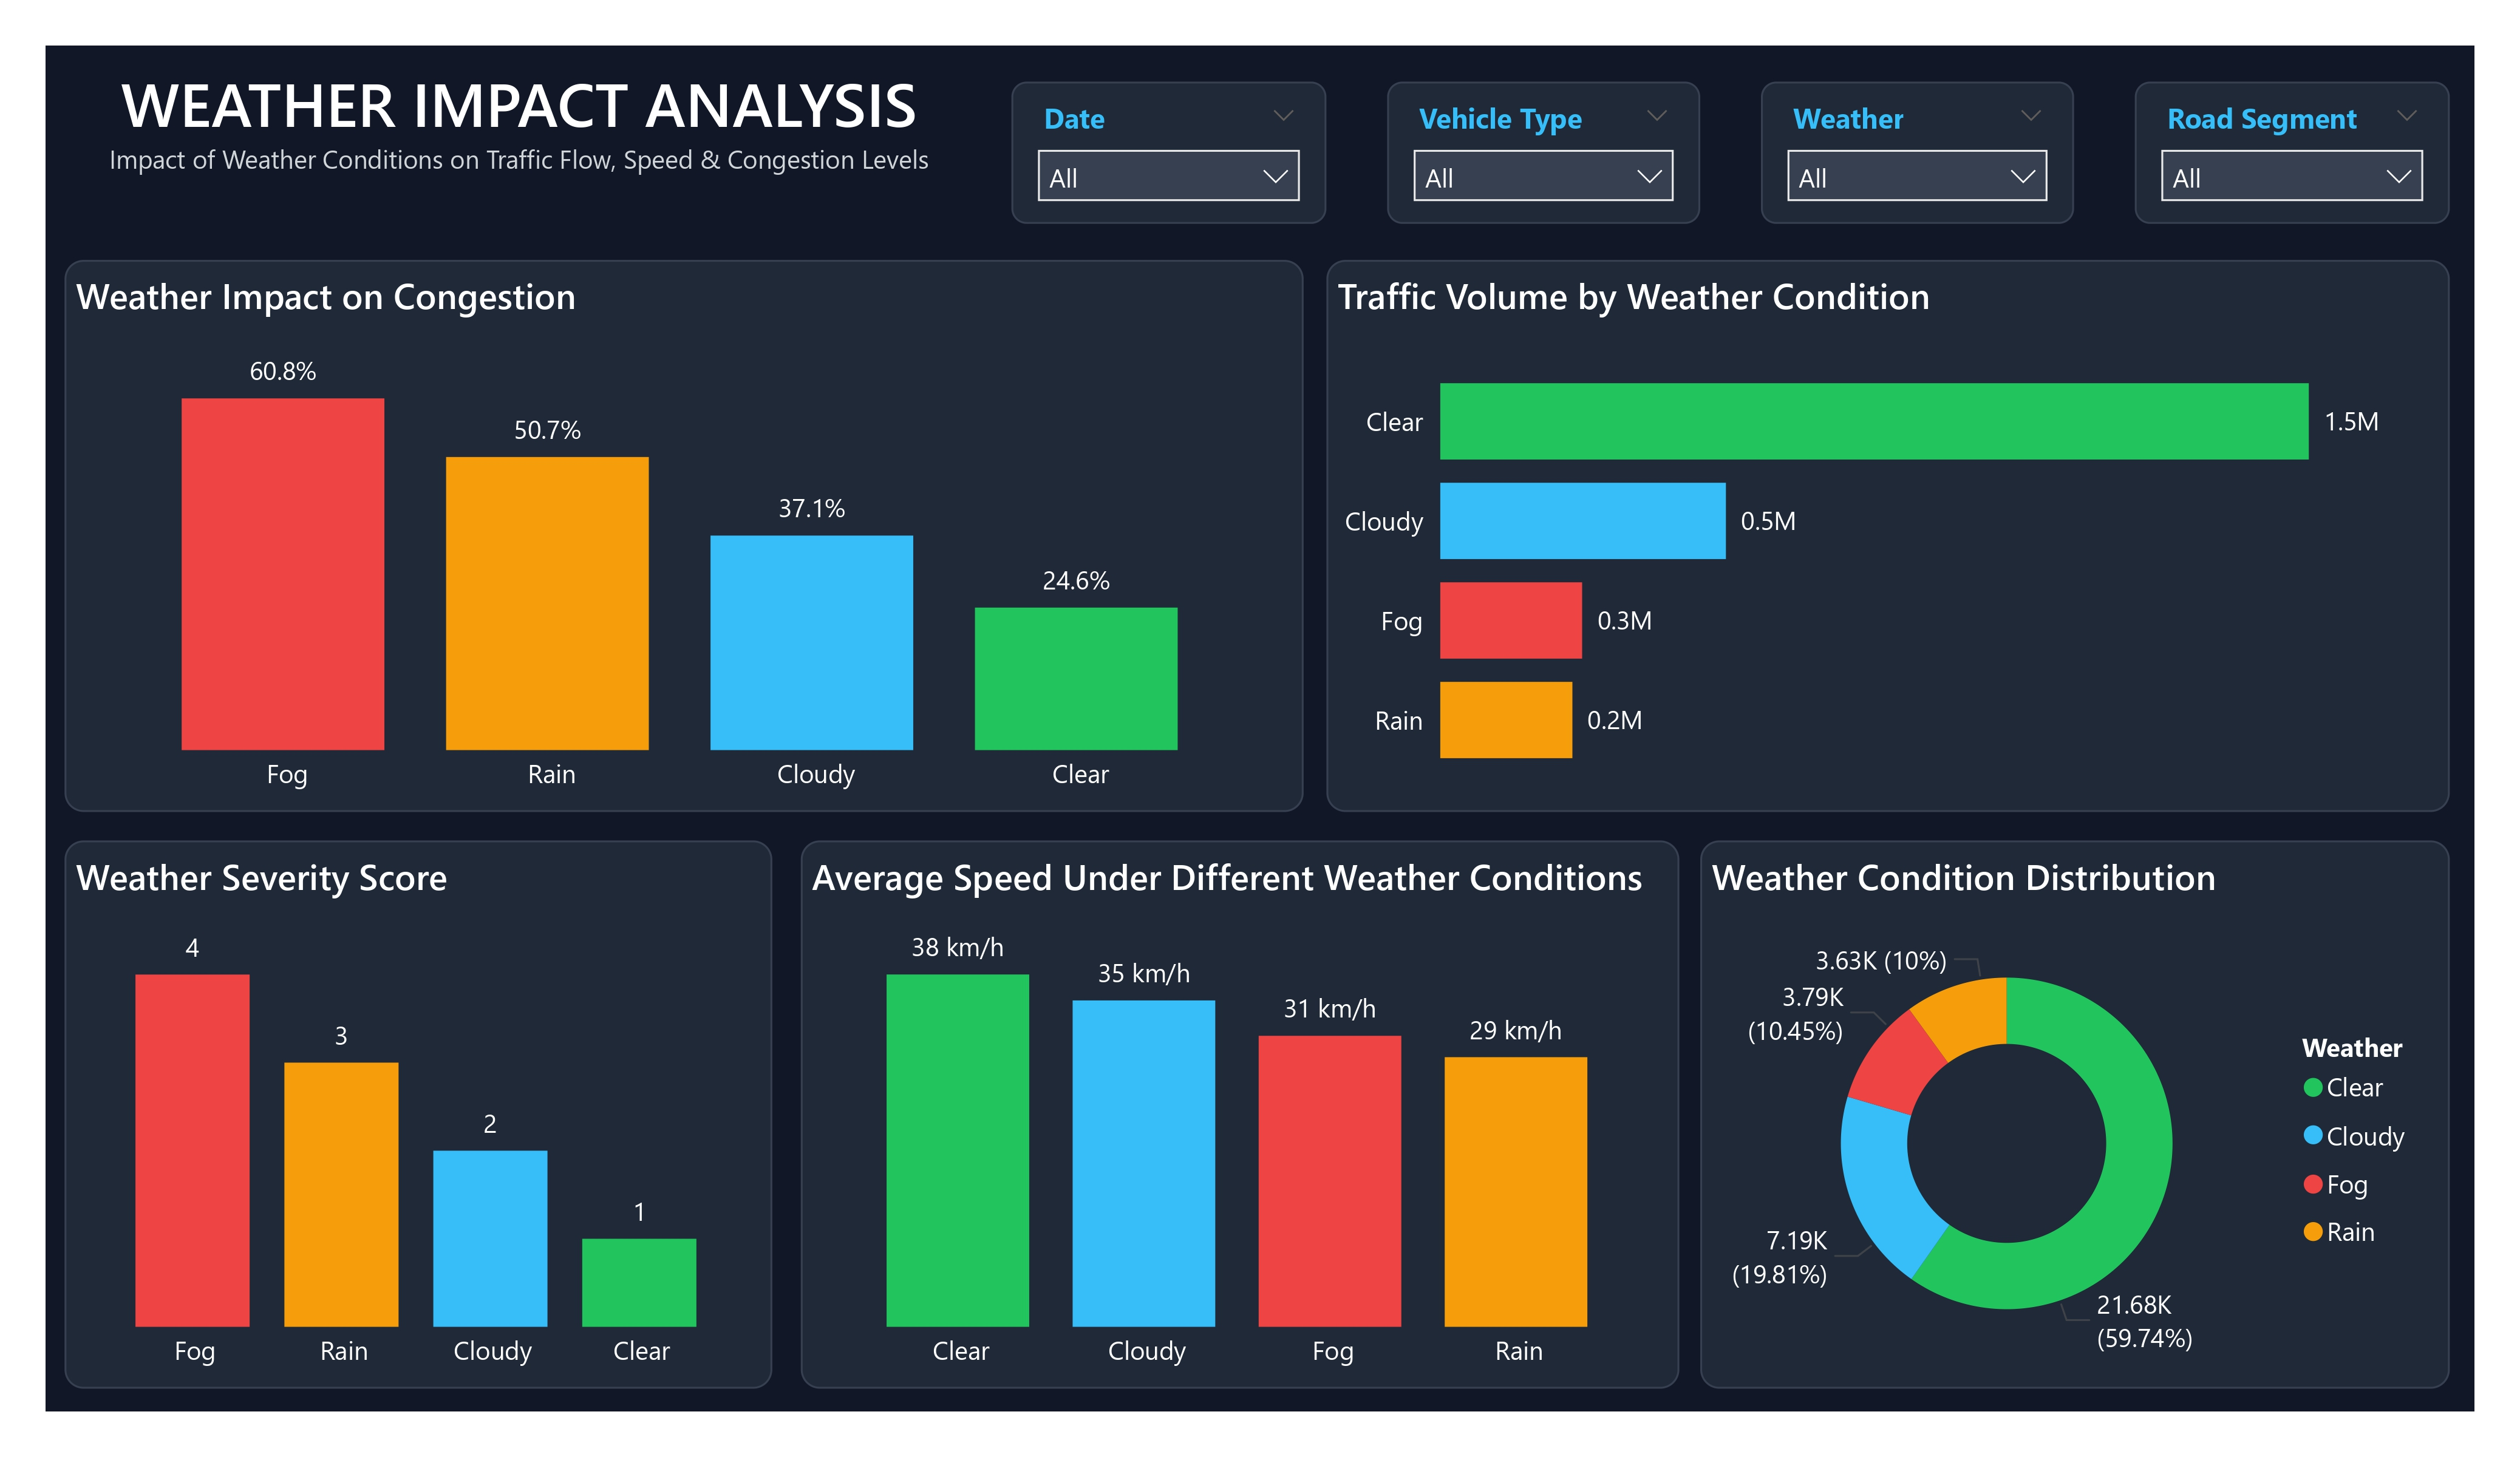

The page's visual inventory and layout, read from the dashboard file:
{"tool":"powerbi","page":{"name":"Weather Impact","canvas":[1280,720],"ordinal":3},"visuals":[{"type":"textbox","box":[0,2.5,499,101.8],"z":0},{"type":"slicer","fields":{"Values":["Traffic_Data.Date"]},"box":[509.2,19.1,165.5,75.1],"z":1000},{"type":"slicer","fields":{"Values":["Traffic_Data.Vehicle_Type"]},"box":[706.7,19.1,165.5,75],"z":2000},{"type":"slicer","fields":{"Values":["Traffic_Data.Weather"]},"box":[904.2,19.1,165,75],"z":3000},{"type":"slicer","fields":{"Values":["Traffic_Data.Road_Segment"]},"box":[1101.2,19.1,165.5,75],"z":4000},{"type":"clusteredBarChart","title":"Traffic Volume by Weather Condition","fields":{"Category":["Traffic_Data.Weather"],"Y":["Traffic_Data.Total Traffic"]},"box":[674.7,113.3,592,290.3],"z":5000},{"type":"clusteredColumnChart","title":"Weather Impact on Congestion","fields":{"Category":["Traffic_Data.Weather"],"Y":["Avg(Traffic_Data.Congestion_Index)"]},"box":[10.2,113.3,653.1,290.3],"z":6000},{"type":"columnChart","title":"Average Speed Under Different Weather Conditions","fields":{"Category":["Traffic_Data.Weather"],"Y":["Avg(Traffic_Data.Avg_Speed_kmph)"]},"box":[398.5,418.8,462.1,289],"z":7000},{"type":"columnChart","title":"Weather Severity Score","fields":{"Category":["Traffic_Data.Weather"],"Y":["Avg(Traffic_Data.Weather_Severity)"]},"box":[10.2,418.8,373,289],"z":8000},{"type":"donutChart","title":"Weather Condition Distribution","fields":{"Category":["Traffic_Data.Weather"],"Y":["CountNonNull(Traffic_Data.id)"]},"box":[872,418.8,394.6,289],"z":9000}]}

Visuals, with their boxes on the page's 1280x720 design canvas (x1, y1, x2, y2). These are canvas units, not pixel positions in the 2520x1457 screenshot, which may show the page scaled, cropped or inside an application window:
textbox: locate(0, 2, 499, 104)
slicer - Traffic_Data.Date: locate(509, 19, 675, 94)
slicer - Traffic_Data.Vehicle_Type: locate(707, 19, 872, 94)
slicer - Traffic_Data.Weather: locate(904, 19, 1069, 94)
slicer - Traffic_Data.Road_Segment: locate(1101, 19, 1267, 94)
"Traffic Volume by Weather Condition" clusteredBarChart: locate(675, 113, 1267, 404)
"Weather Impact on Congestion" clusteredColumnChart: locate(10, 113, 663, 404)
"Average Speed Under Different Weather Conditions" columnChart: locate(398, 419, 861, 708)
"Weather Severity Score" columnChart: locate(10, 419, 383, 708)
"Weather Condition Distribution" donutChart: locate(872, 419, 1267, 708)
